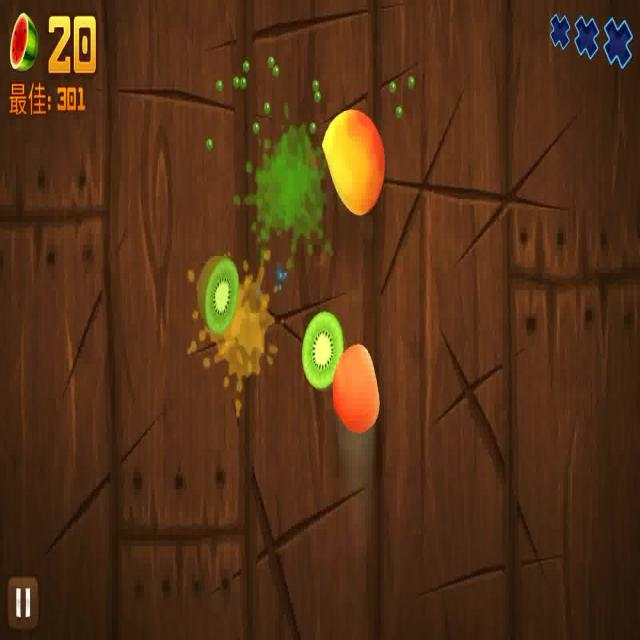fruit: (326, 106, 386, 214), (332, 344, 383, 432), (302, 311, 342, 390), (198, 251, 238, 329)
